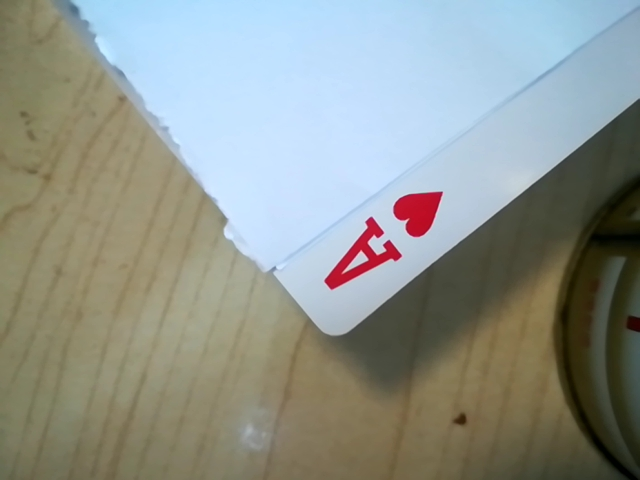hx a: (308, 187, 448, 303)
